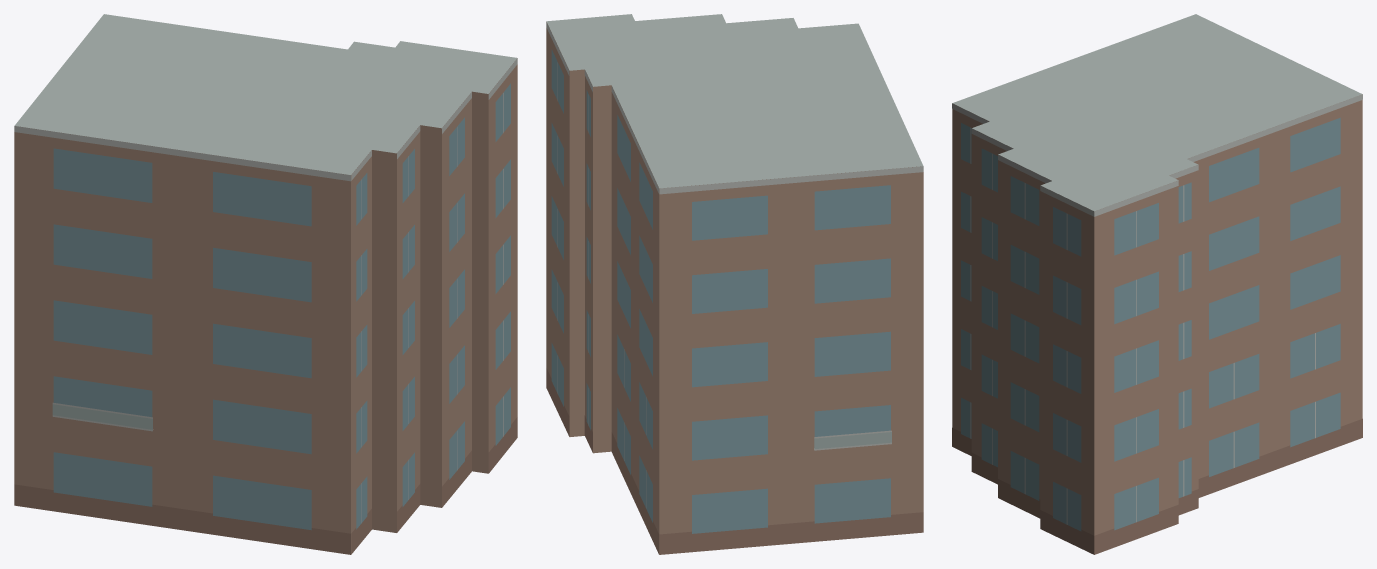
File: survey-upis-32605552.glb
3 renders of one model, left to right at view 1: azimuth 30°, elevation 25°; view 2: azimuth 150°, elevation 25°; view 3: azimuth 270°, elevation 25°, orthographic. The views are drawn at different scales.
Visible parts, largest first — view 1: survey-upis-32605552.tmp; view 2: survey-upis-32605552.tmp; view 3: survey-upis-32605552.tmp.
Boxes of the visible parts, x1,y1,x2,y2 form: survey-upis-32605552.tmp: (14, 14, 517, 554); survey-upis-32605552.tmp: (546, 14, 923, 554); survey-upis-32605552.tmp: (952, 14, 1362, 554).
Size of the model in its own units: 18.49 by 15 by 16.25.
